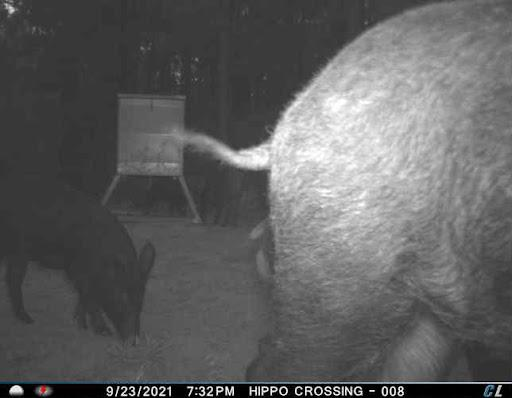Hog: (219, 0, 512, 380), (0, 204, 160, 344)
